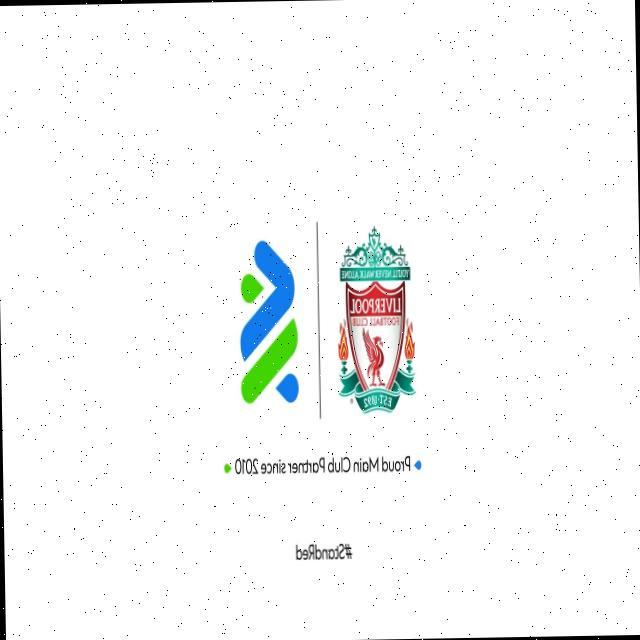Standard Chartered: (237, 236, 300, 410)
